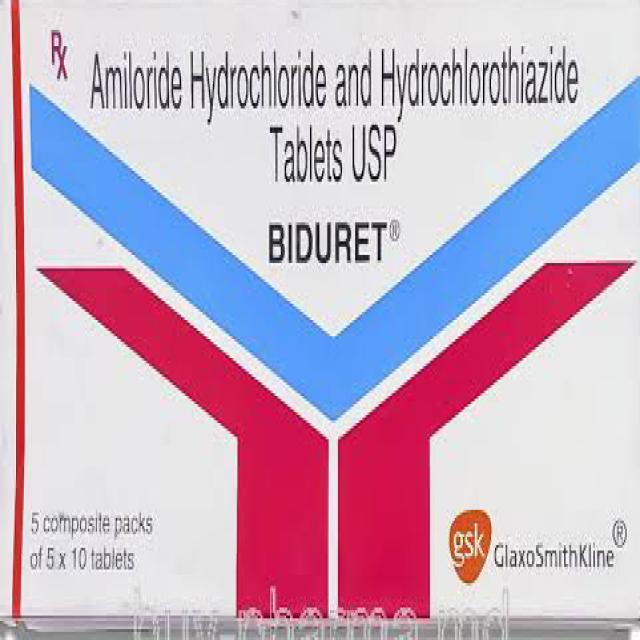drug-name: (264, 213, 387, 268)
